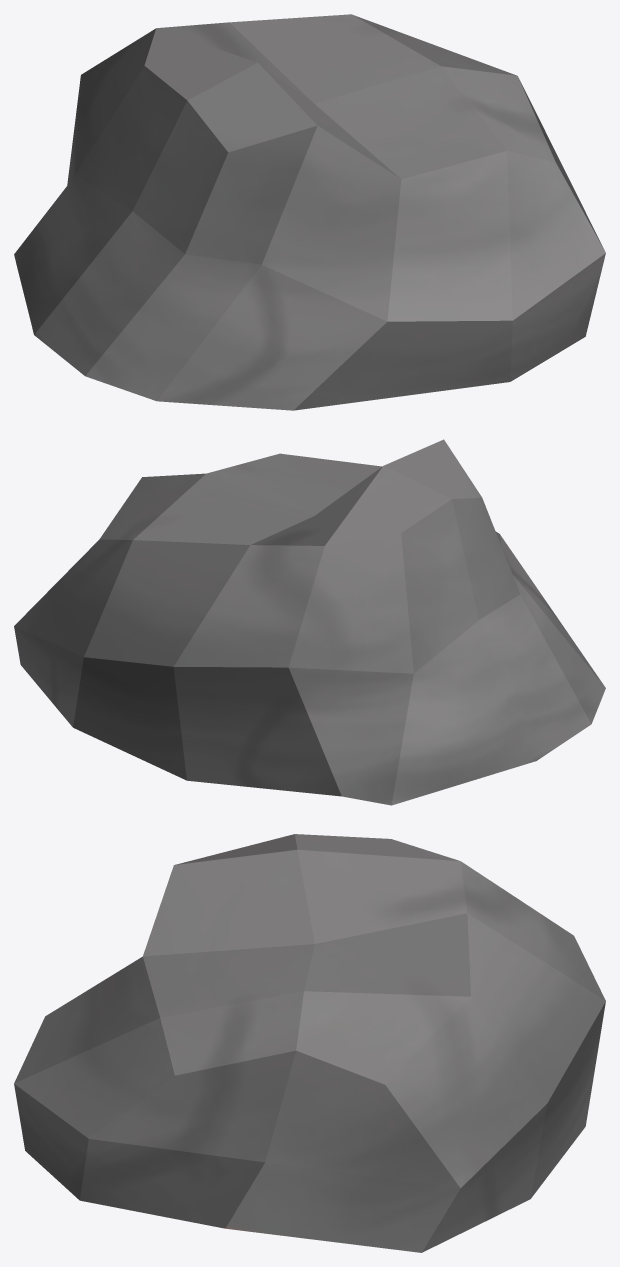
File: stone-001-46.glb
The picture shows the model from 3 angles, top to bottom: view 1: azimuth 30°, elevation 25°; view 2: azimuth 150°, elevation 25°; view 3: azimuth 270°, elevation 25°; orthographic projection. The views are drawn at different scales.
Parts seen in each view (by area): view 1: stone.001_46; view 2: stone.001_46; view 3: stone.001_46.
Part boxes in pixels (box(x1,y1,x2,y2)): stone.001_46: box(14, 14, 605, 410); stone.001_46: box(14, 439, 605, 805); stone.001_46: box(14, 834, 605, 1252).
Bounding box in the file's own units: 7.67 × 3.45 × 7.56.
1 material, 1 textured.
